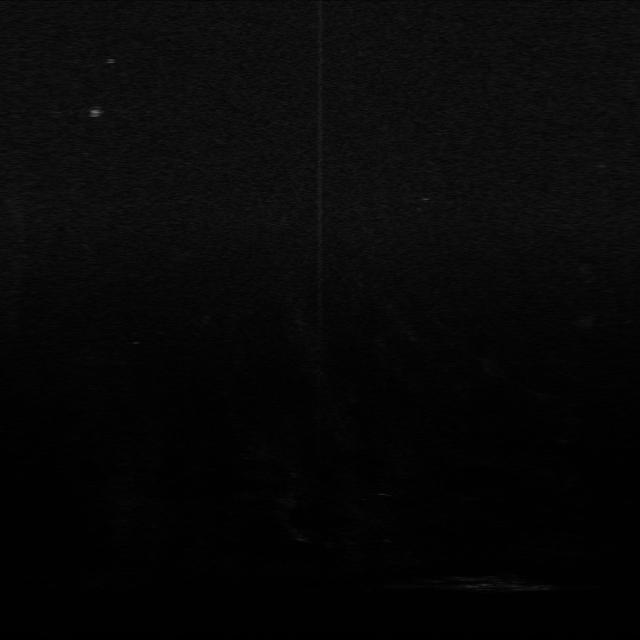rov: (82, 103, 110, 122)
